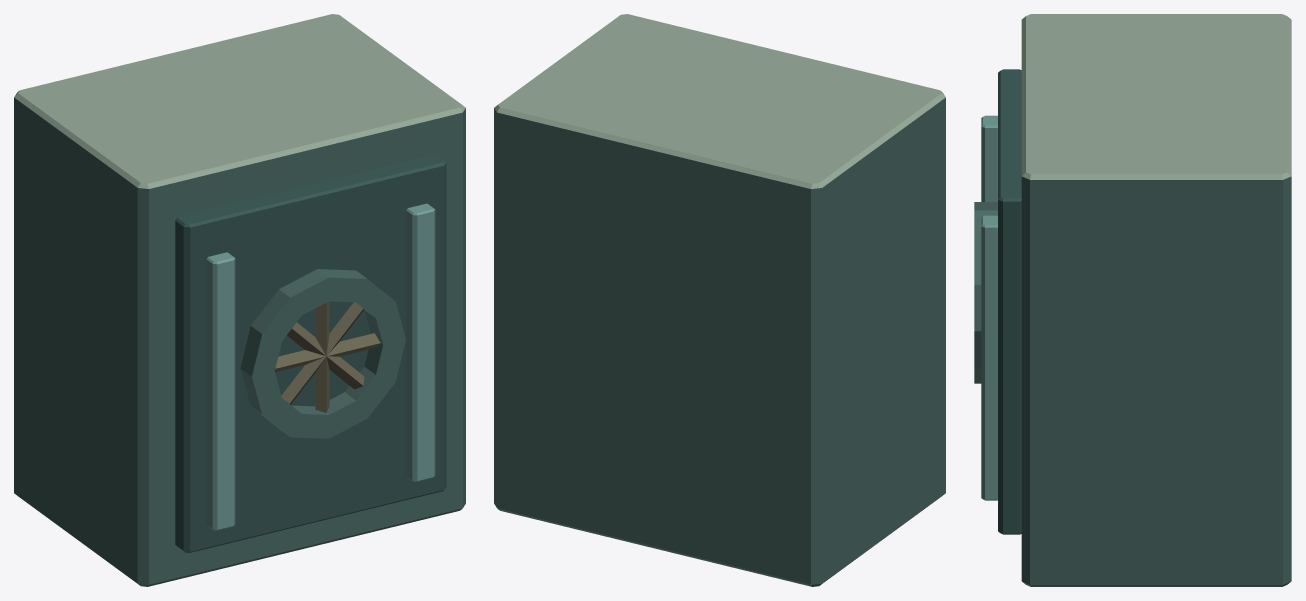
Rendered from armored-vault.glb.
The picture shows the model from 3 angles, left to right: view 1: azimuth 30°, elevation 25°; view 2: azimuth 150°, elevation 25°; view 3: azimuth 270°, elevation 25°; orthographic projection. The views are drawn at different scales.
Parts seen in each view (by area): view 1: armored-vault__body; view 2: armored-vault__body; view 3: armored-vault__body.
Boxes of the visible parts, x1,y1,x2,y2 form: armored-vault__body: (14, 14, 465, 586); armored-vault__body: (494, 14, 945, 586); armored-vault__body: (974, 14, 1291, 586).
Bounding box in the file's own units: 1.15 × 1.35 × 0.94.
